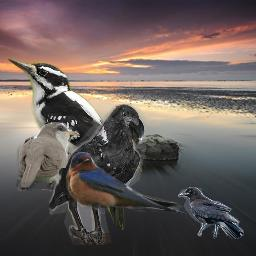Crow: (49, 104, 146, 245), (178, 187, 244, 239)
Cuckoo: (16, 122, 80, 192)
Swallow: (66, 152, 190, 216)
Woodpecker: (6, 53, 142, 231)
